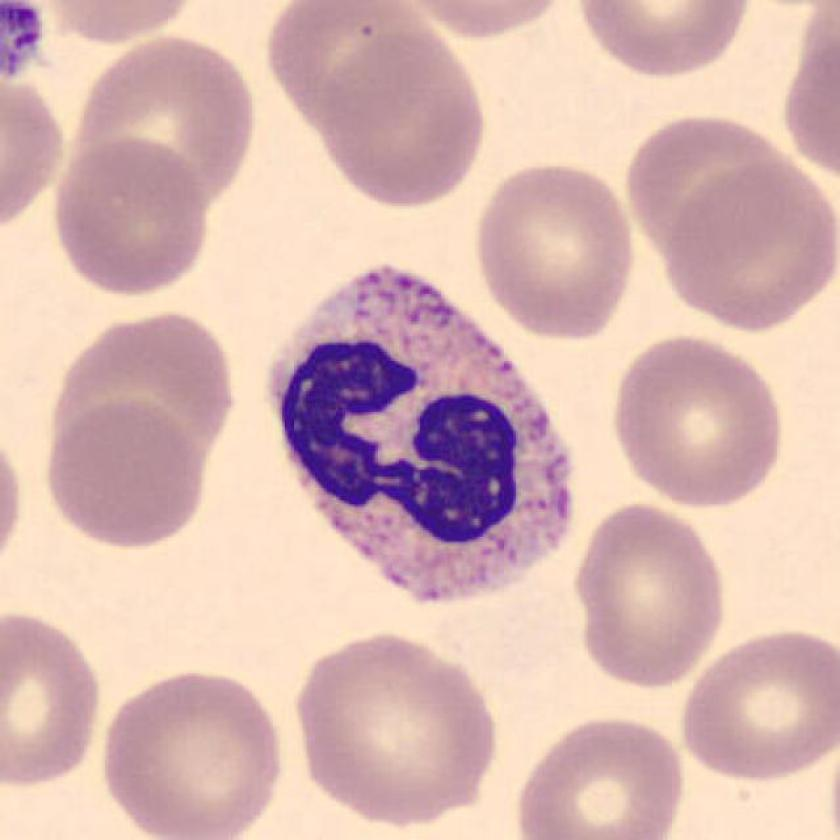neutrophil: (267, 270, 576, 606)
